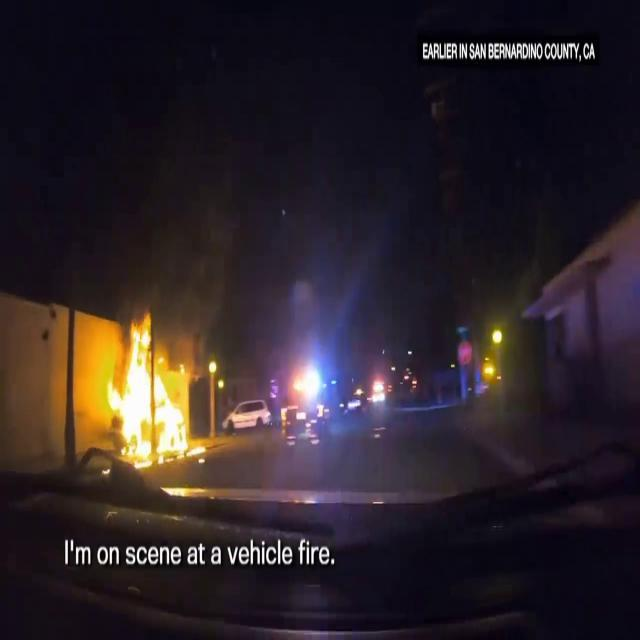Fire: (104, 316, 194, 464)
